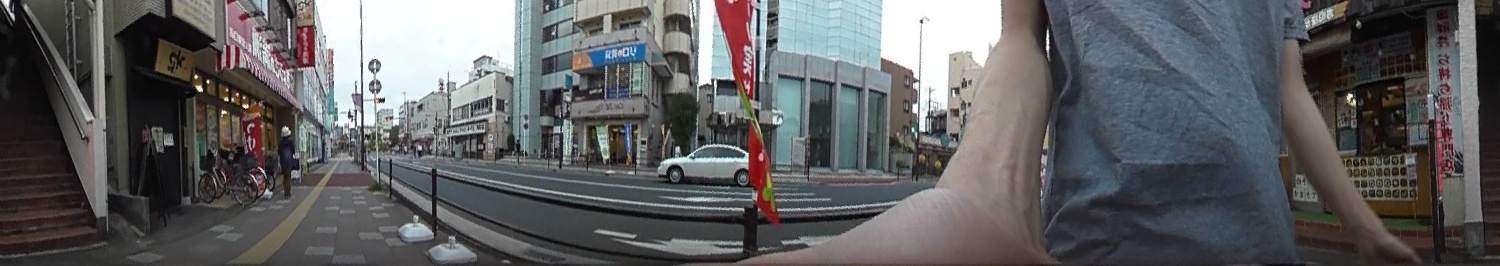difficult_person: (277, 125, 297, 198)
